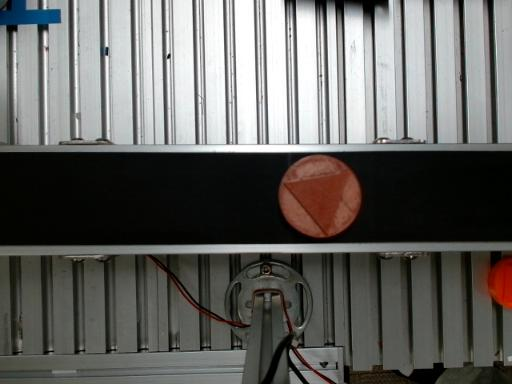Brown_Waper: (278, 155, 361, 238)
Not_Square: (282, 171, 352, 238)
